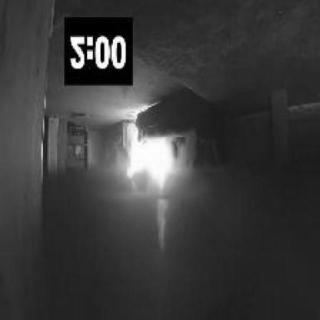Fire: (117, 128, 175, 200)
